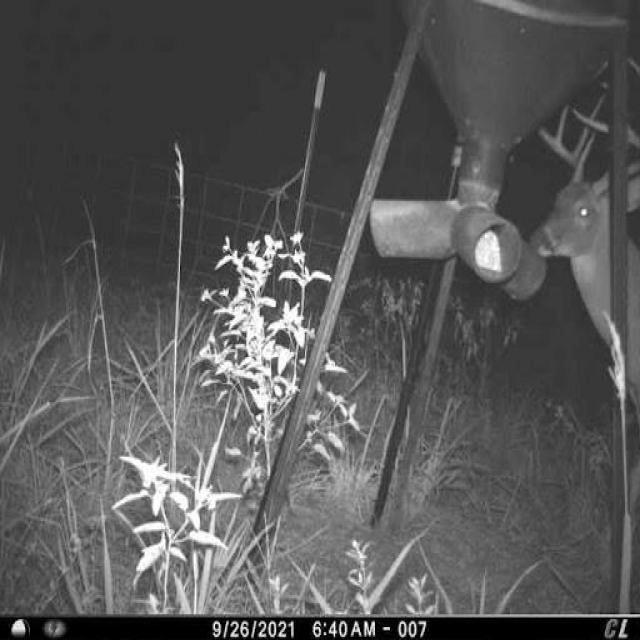Deer: (522, 44, 638, 588)
